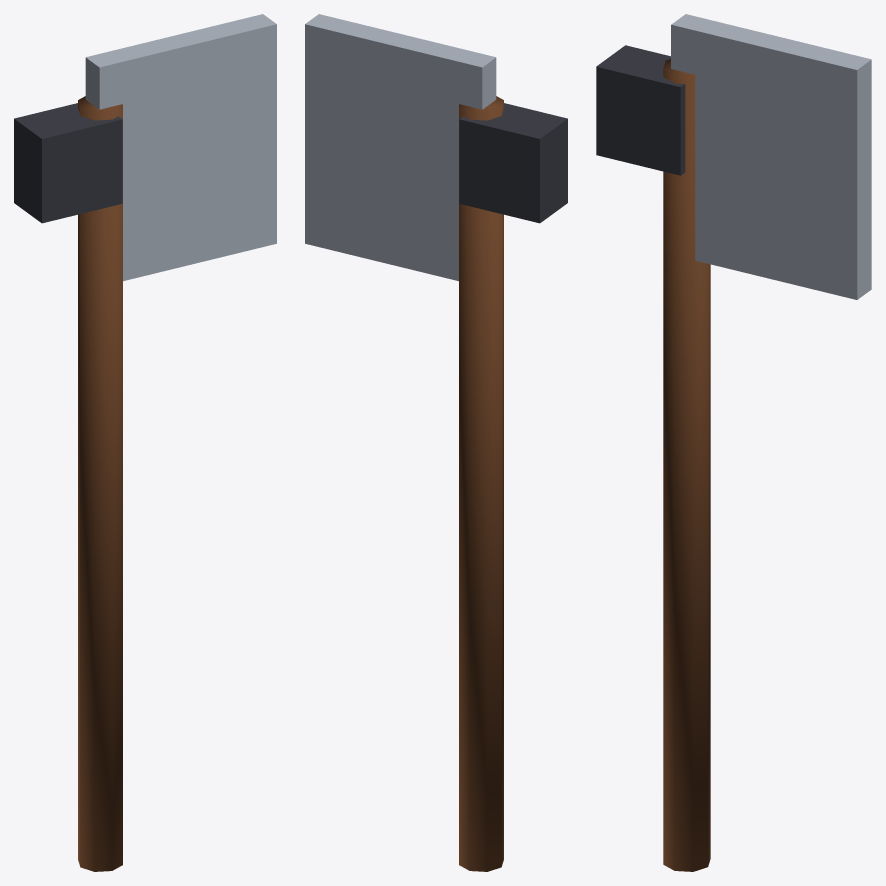
Rendered from axe.glb.
3 views of the same model, side by side, from view 1: azimuth 30°, elevation 25°; view 2: azimuth 150°, elevation 25°; view 3: azimuth 330°, elevation 25° (orthographic). The views are drawn at different scales.
Parts seen in each view (by area): view 1: axe; view 2: axe; view 3: axe.
Boxes of the visible parts, x1,y1,x2,y2 form: axe: (14, 14, 276, 871); axe: (305, 14, 567, 871); axe: (596, 14, 871, 871).
Bounding box in the file's own units: 0.3 × 0.95 × 0.06.
